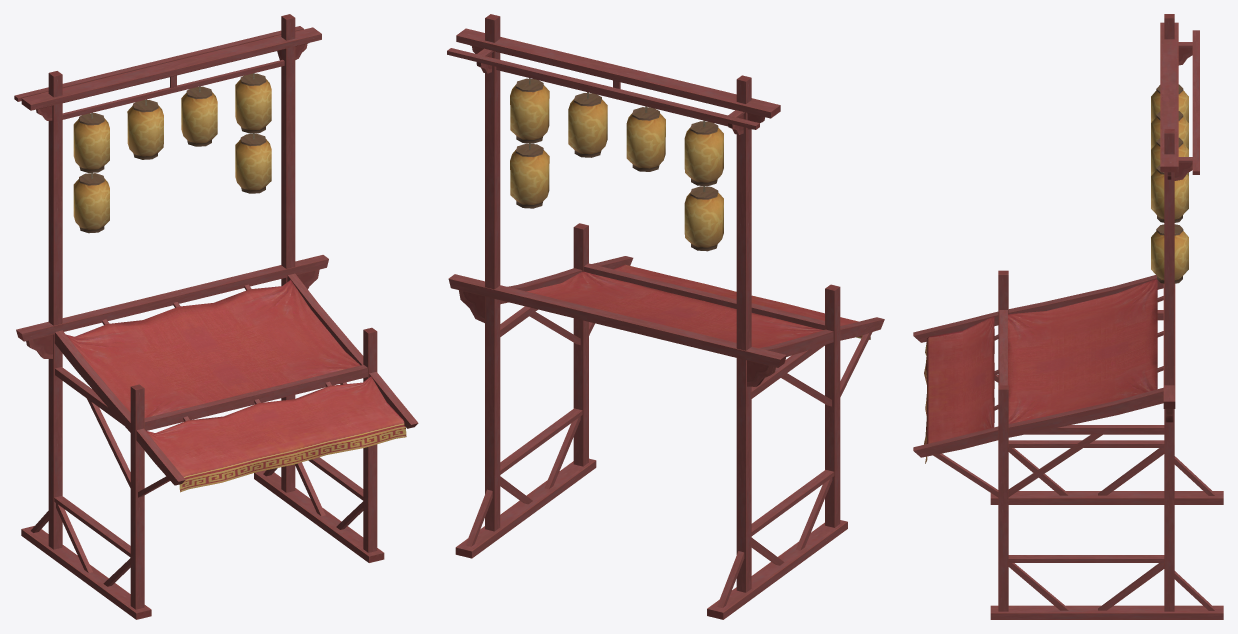
The model's file is Homeworld_Exterior_Ly_Thing_Build_LanternRiteVendor_02_Lod0.fbx.
3 views of the same model, side by side, from view 1: azimuth 30°, elevation 25°; view 2: azimuth 150°, elevation 25°; view 3: azimuth 270°, elevation 25° (orthographic). The views are drawn at different scales.
Visible parts, largest first — view 1: Area_Ly_Prop_LYG_Hdj_Tanwei_03_Lod0; view 2: Area_Ly_Prop_LYG_Hdj_Tanwei_03_Lod0; view 3: Area_Ly_Prop_LYG_Hdj_Tanwei_03_Lod0.
Part boxes in pixels (<box>): Area_Ly_Prop_LYG_Hdj_Tanwei_03_Lod0: <box>14,14,418,619</box>; Area_Ly_Prop_LYG_Hdj_Tanwei_03_Lod0: <box>447,14,884,619</box>; Area_Ly_Prop_LYG_Hdj_Tanwei_03_Lod0: <box>913,14,1223,619</box>.
Bounding box in the file's own units: 6.01 × 8.96 × 5.19.
